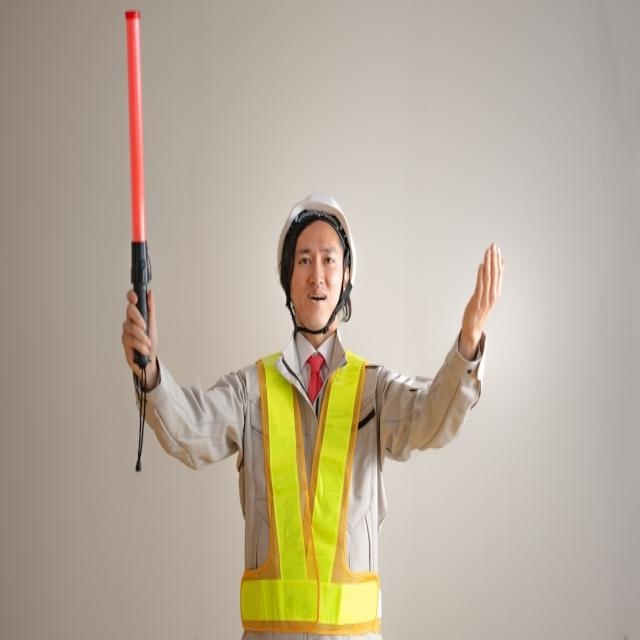Con_Casco: (276, 190, 355, 330)
Con_Chaleco: (237, 346, 379, 634)
